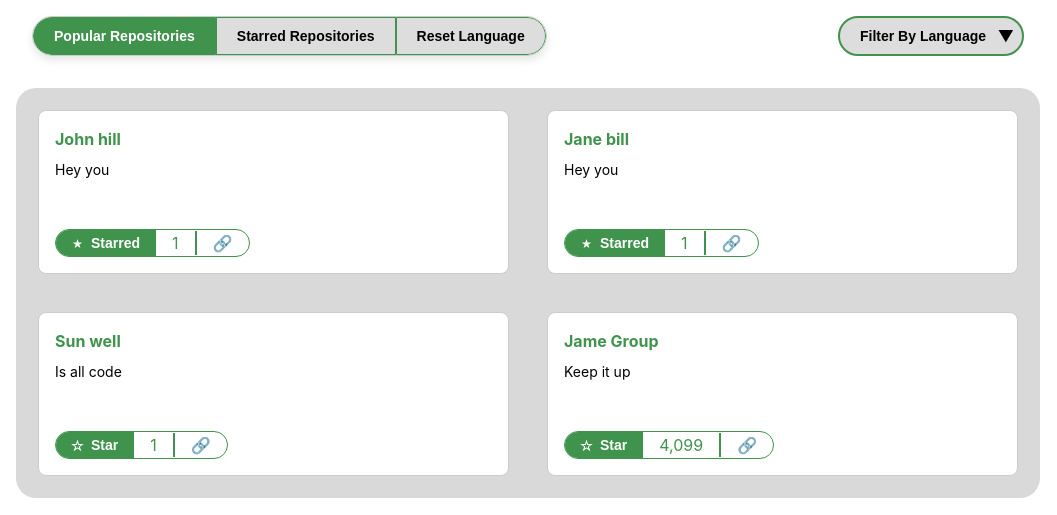
Test: Repositories Component › should star a repository
The width and height of the screenshot is (1057, 515).
Step 1. Click the button "★Star" next to "4,099" → coordinates (604, 445), box [565, 432, 643, 458]
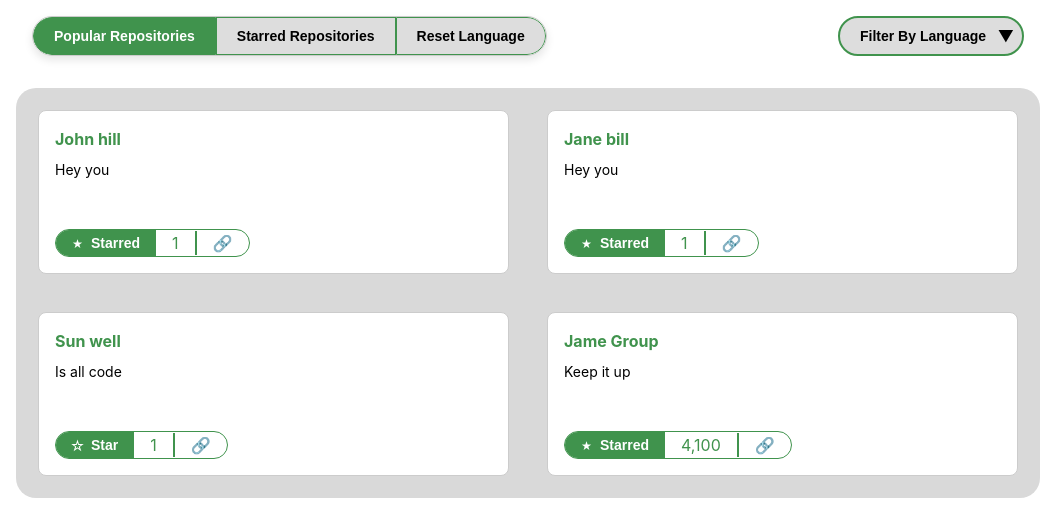
expect the text "4,100" is shown: met, box [681, 435, 721, 455]
